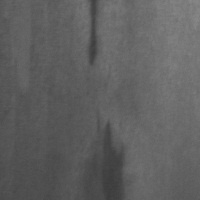inclusion: (94, 113, 133, 199), (82, 0, 103, 70)
